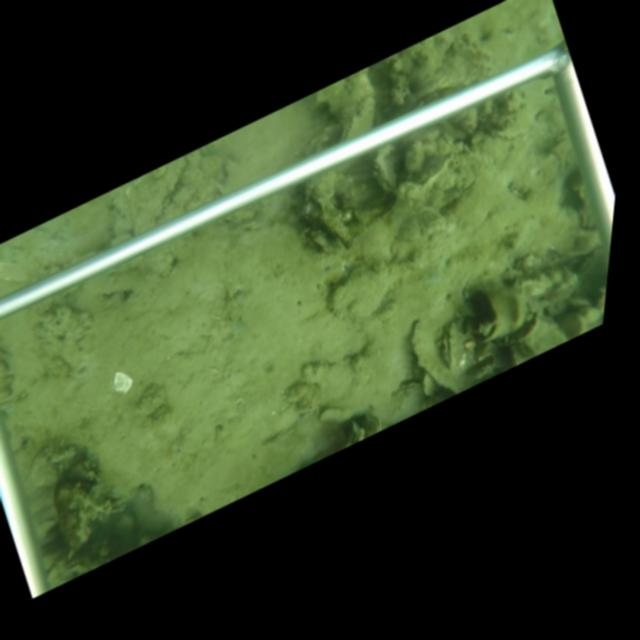Oyster-Closed: (337, 92, 376, 140), (372, 141, 404, 192), (435, 320, 460, 373)
Oyster-Indeterminate: (323, 257, 412, 324), (121, 154, 188, 235)
